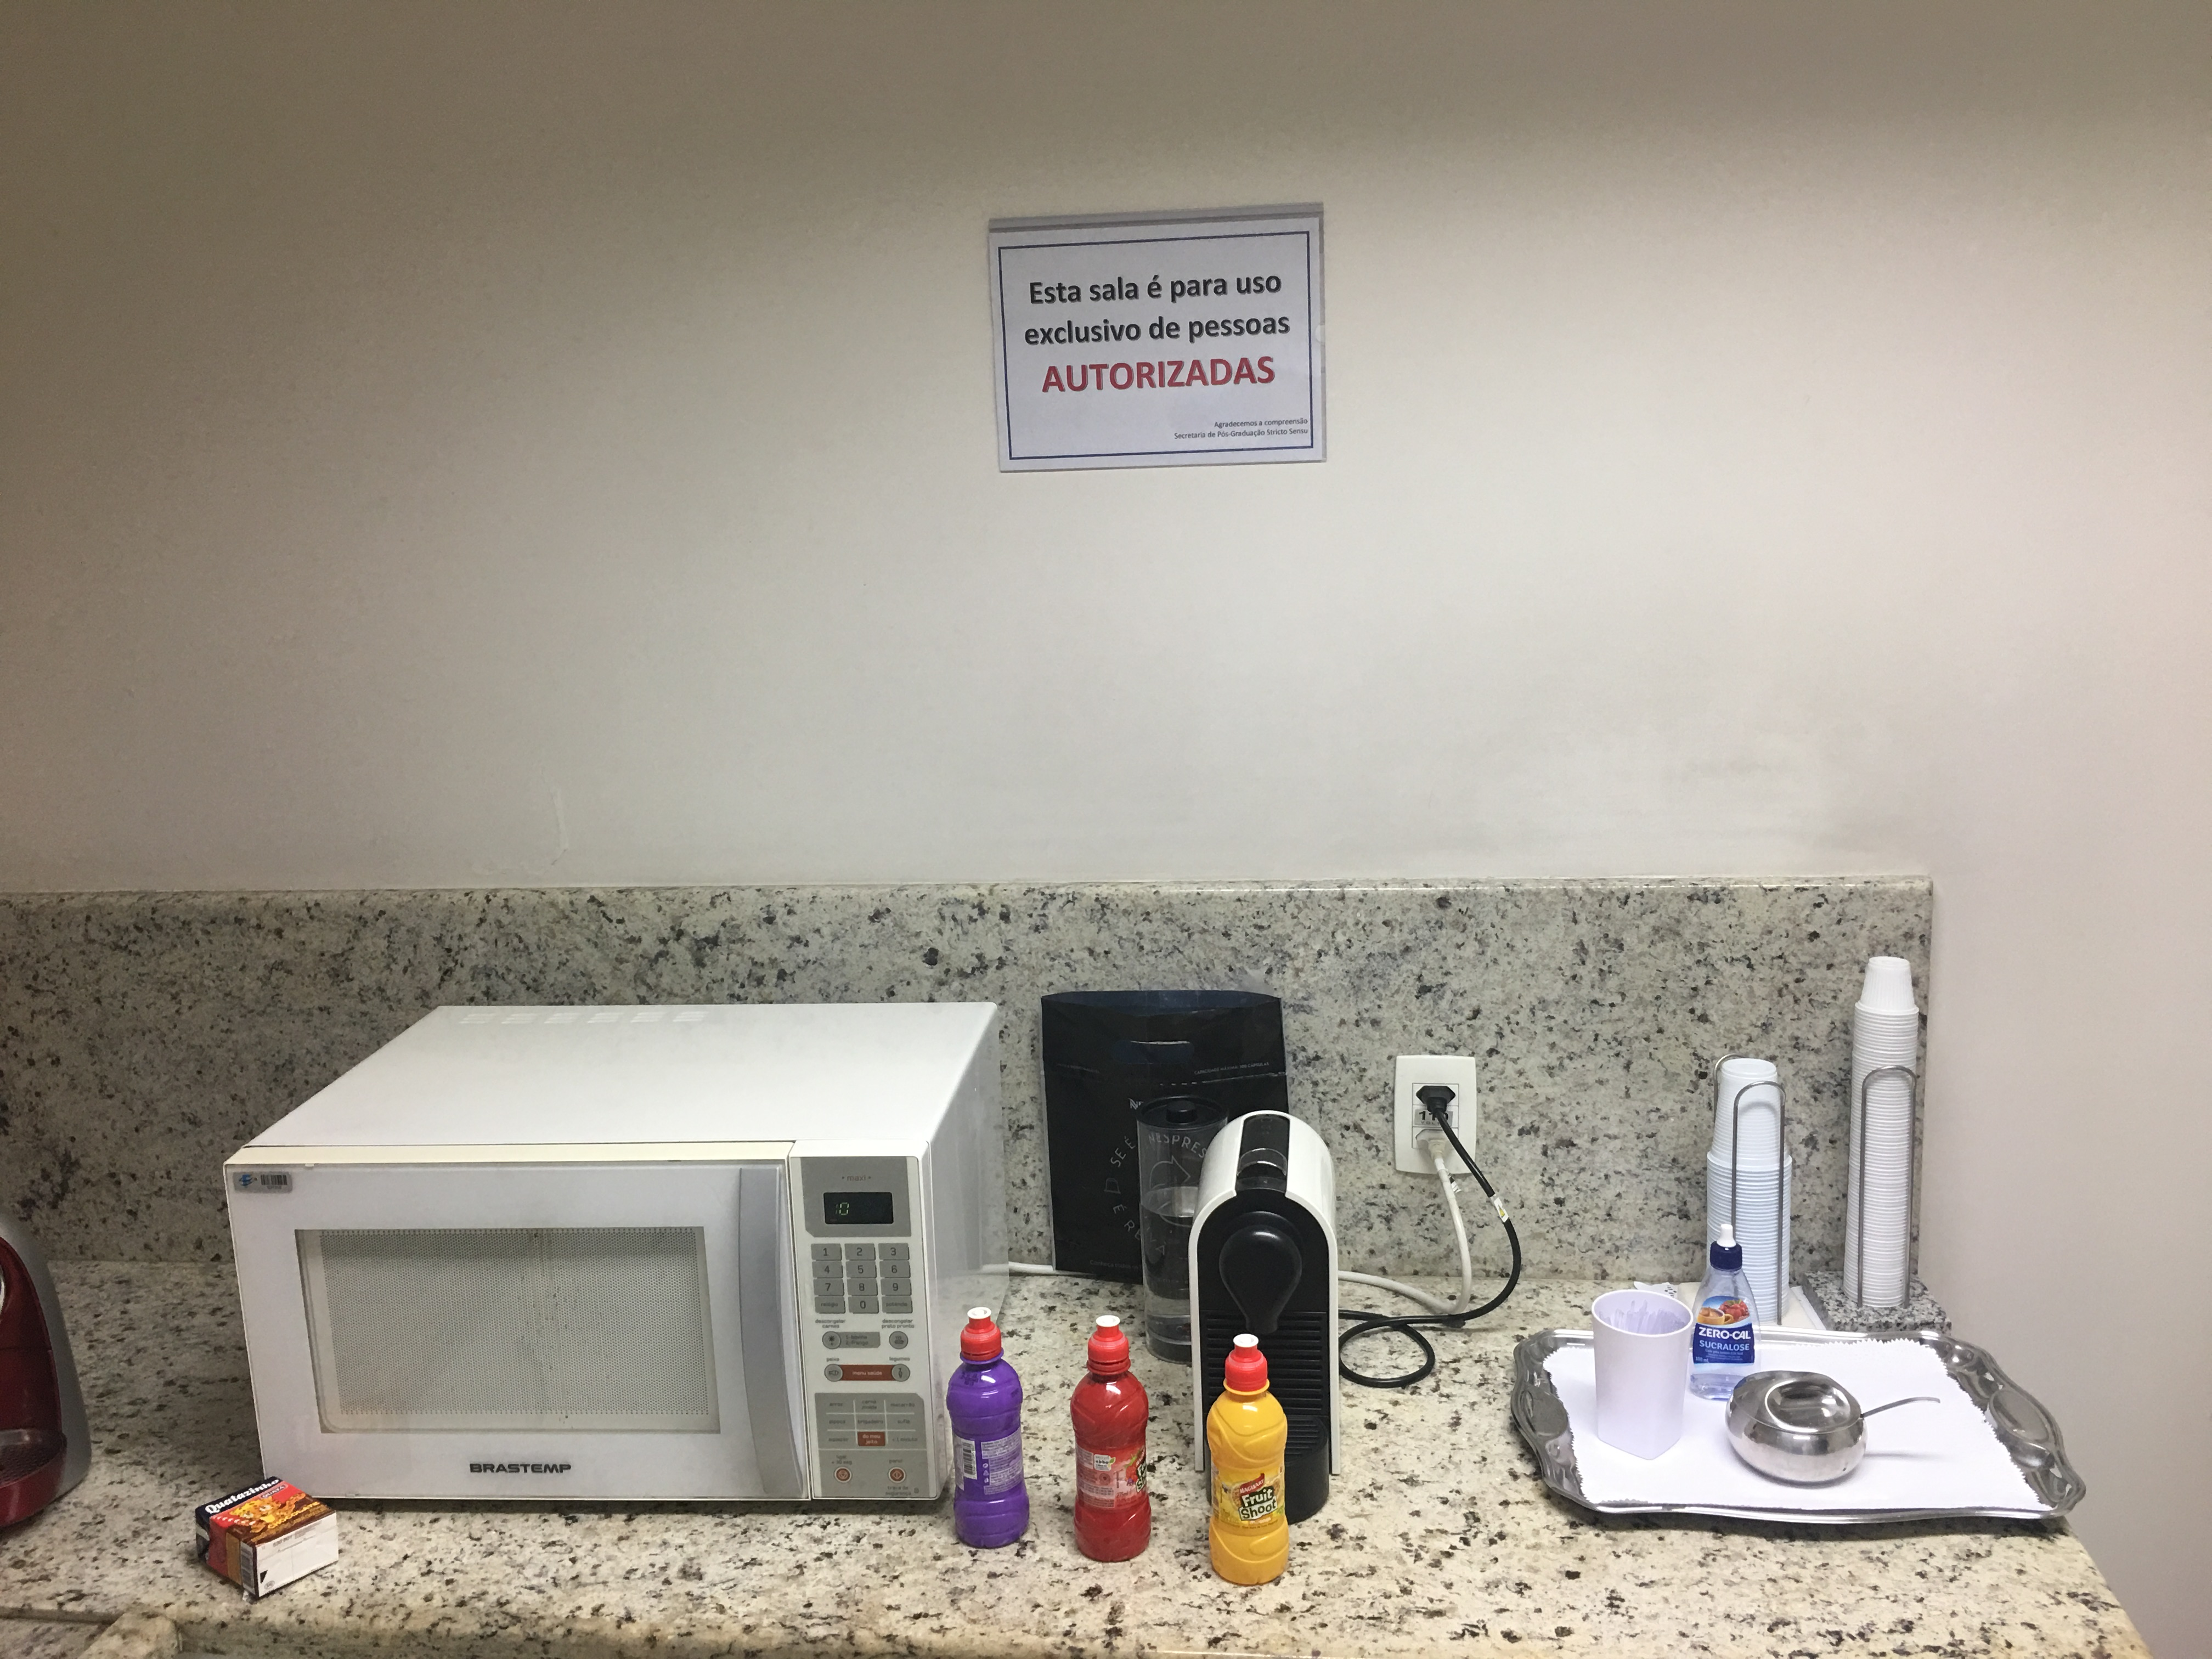chocolate_milk: (188, 1474, 355, 1603)
purple_juice: (937, 1300, 1040, 1561)
red_juice: (1066, 1314, 1162, 1572)
yellow_juice: (1198, 1323, 1298, 1595)
